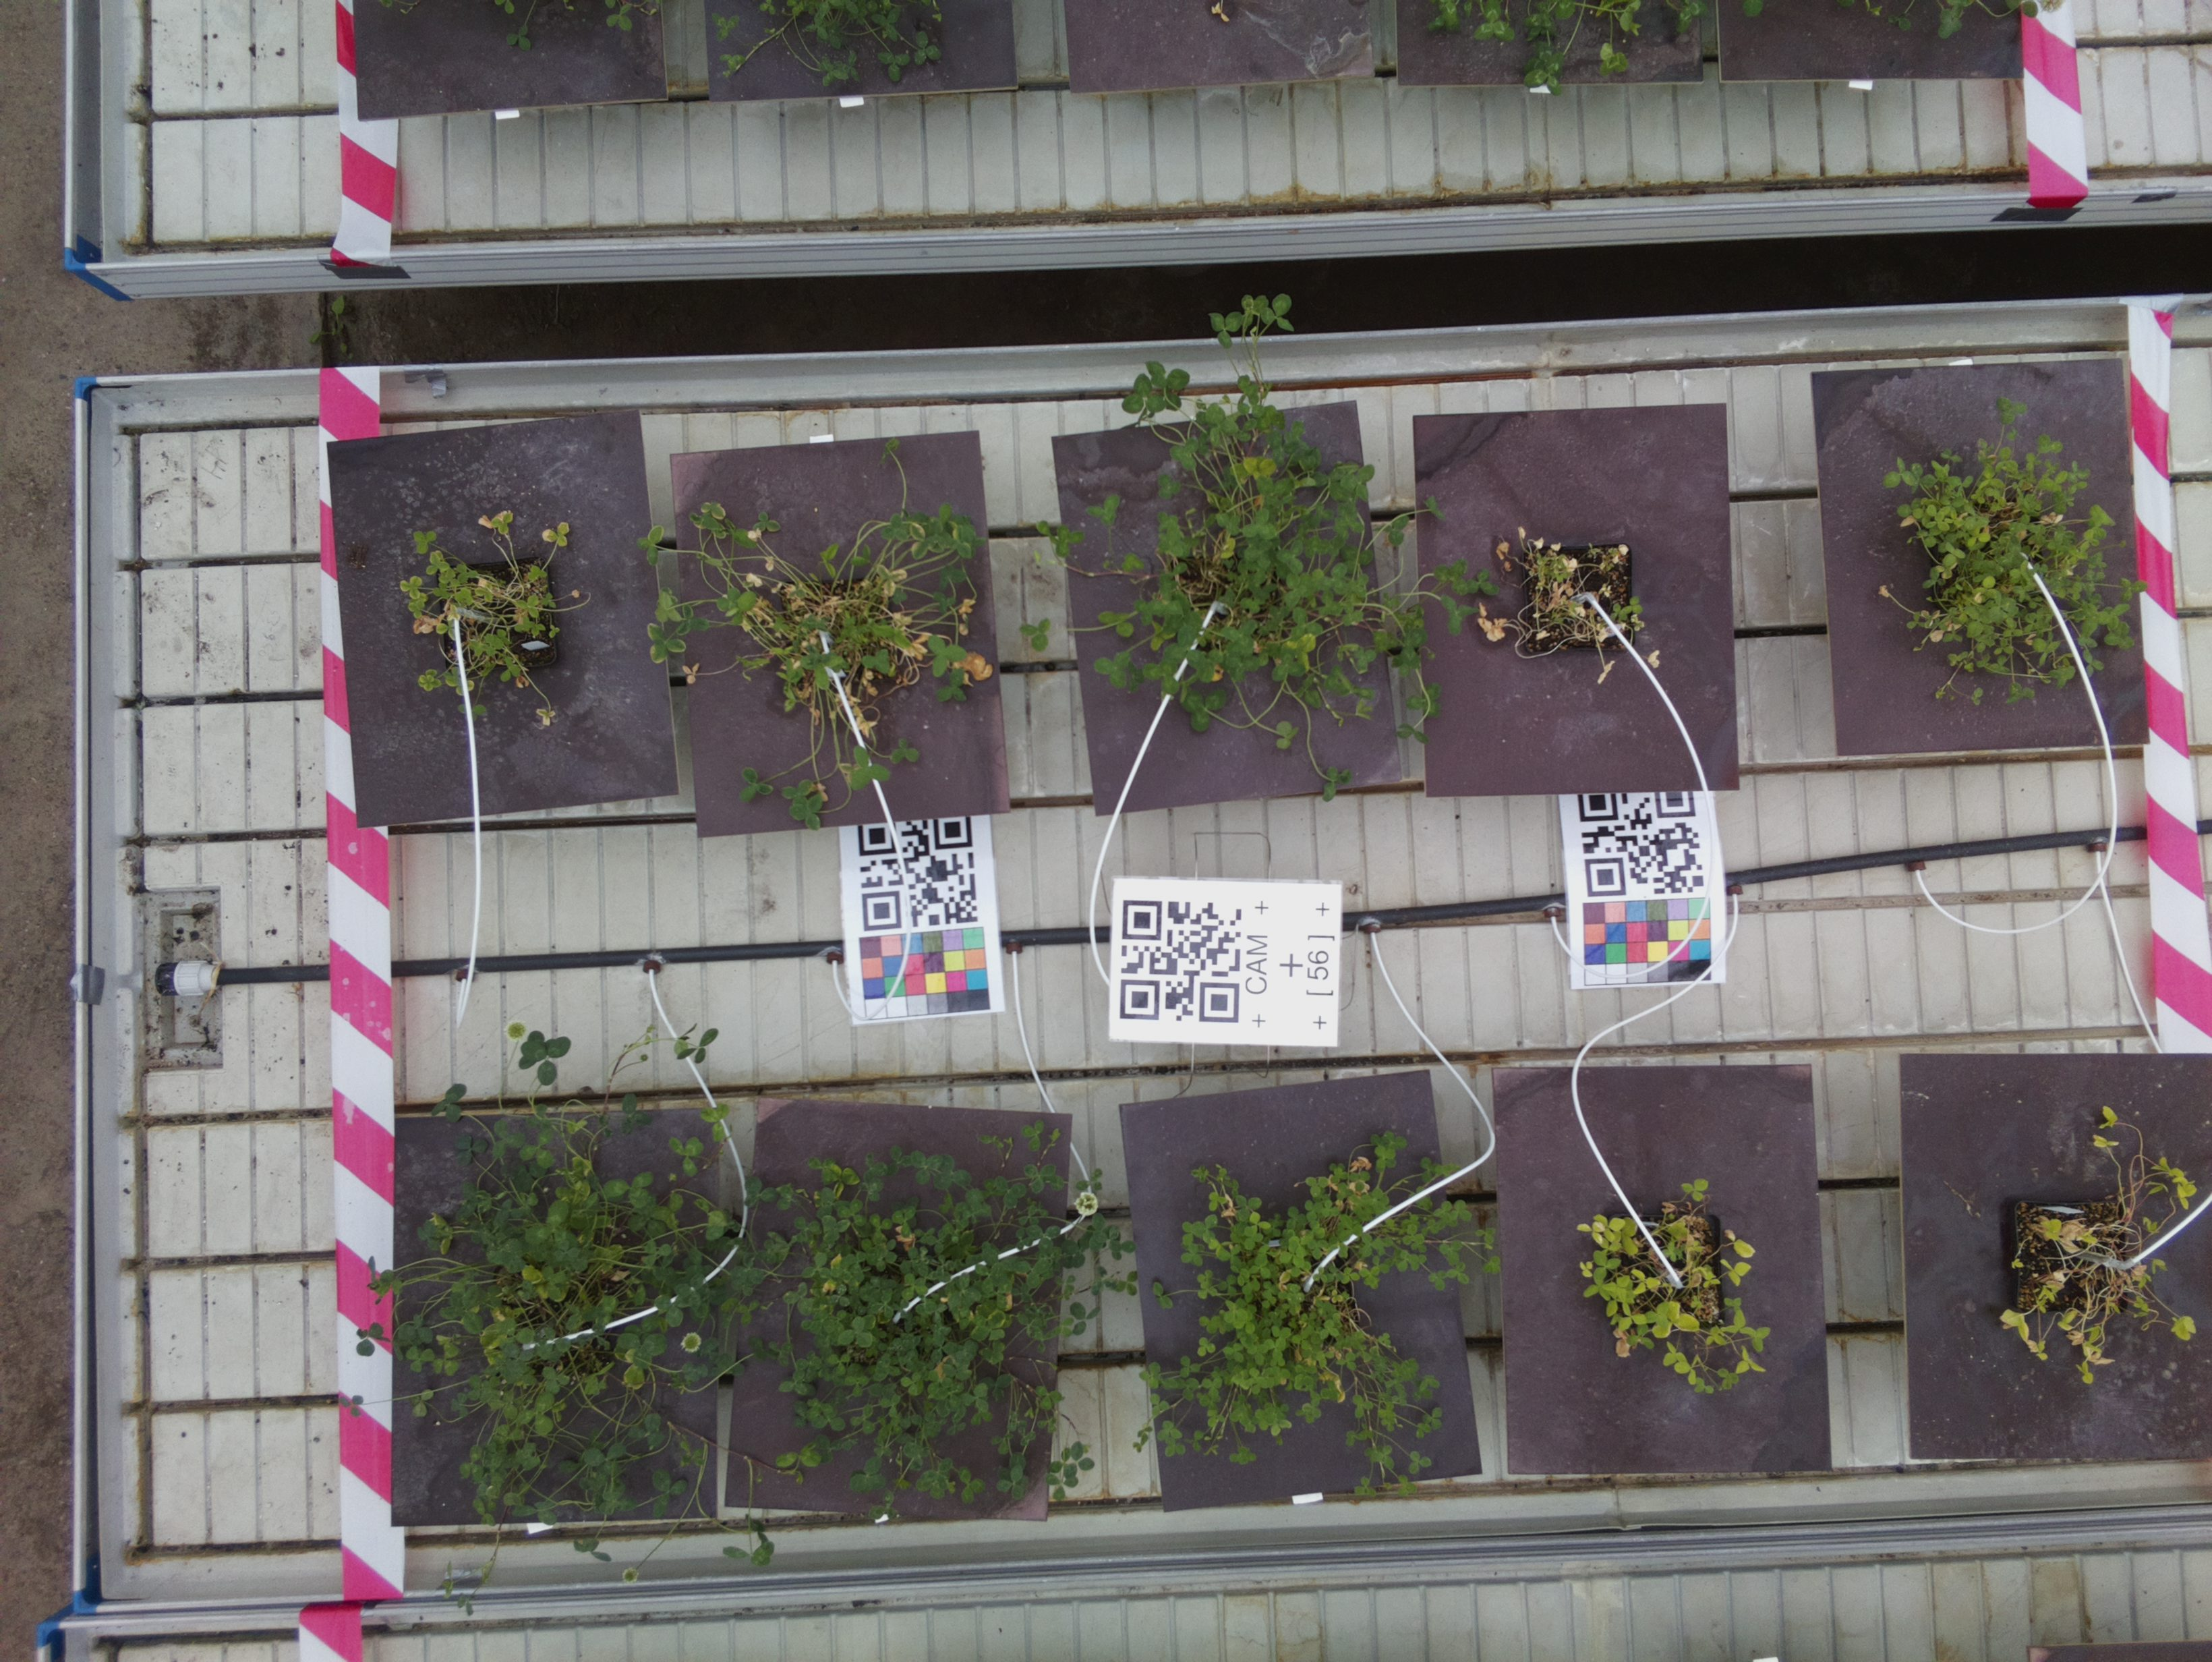POT: (1482, 1065, 1840, 1479), (1116, 1100, 1493, 1486), (386, 1117, 721, 1526), (1816, 374, 2172, 754), (669, 450, 1014, 831), (1412, 414, 1755, 796), (747, 1103, 1051, 1533), (1894, 1051, 2212, 1461), (1053, 433, 1405, 791), (326, 442, 676, 801)
QRCODE: (1109, 876, 1341, 1051)
QRCOLOR: (843, 824, 1006, 1023), (1566, 798, 1728, 992)
